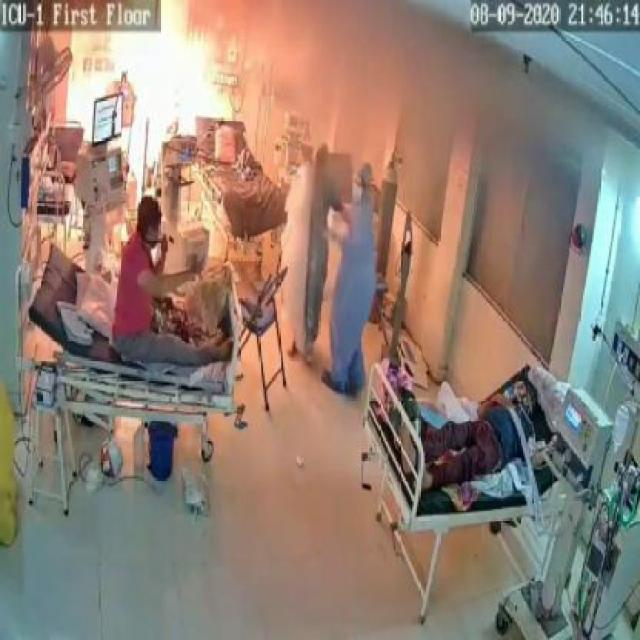fire: (104, 2, 233, 138)
smoke: (282, 2, 578, 190)
